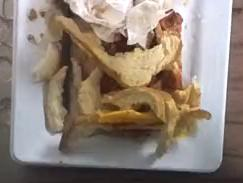bread_crust: (57, 18, 186, 123), (45, 65, 68, 132)
